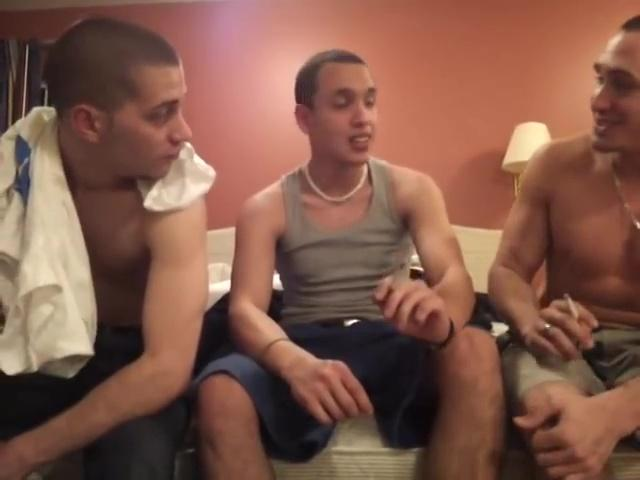cigarette: (562, 291, 583, 321), (391, 262, 408, 293)
